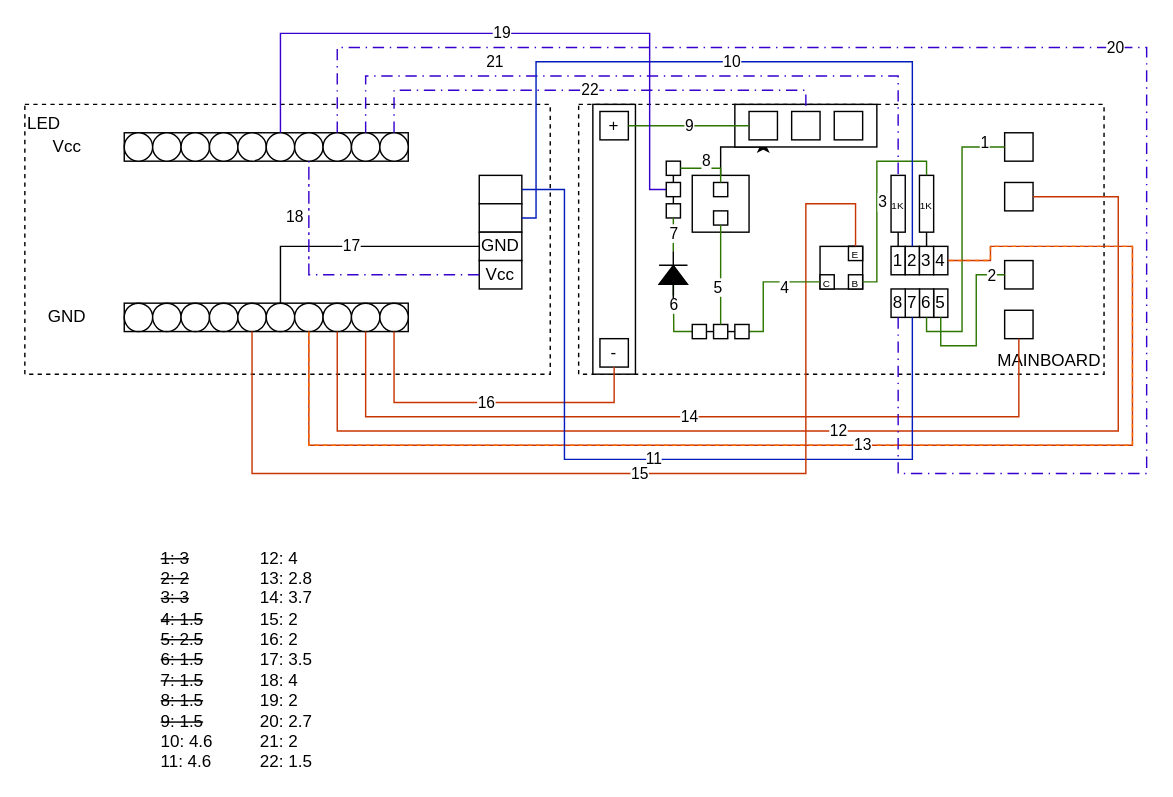
Image size: 1173x797. Some labels were removed from this diagram. Here are the shapes that lost their labels. From the top down, the centre of each, then its label:
(x=500, y=189): CLK
(x=500, y=217): DIO
